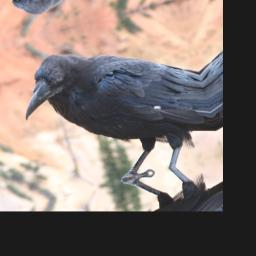Crow: (8, 17, 222, 200)
